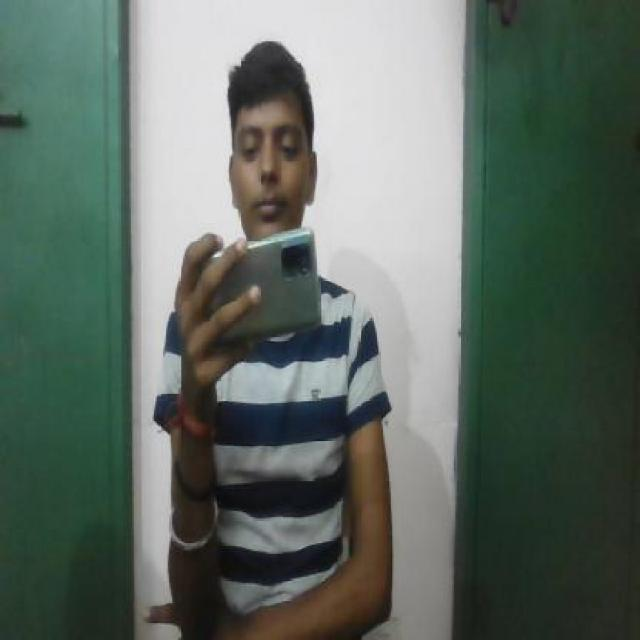Phone: (200, 228, 322, 340)
